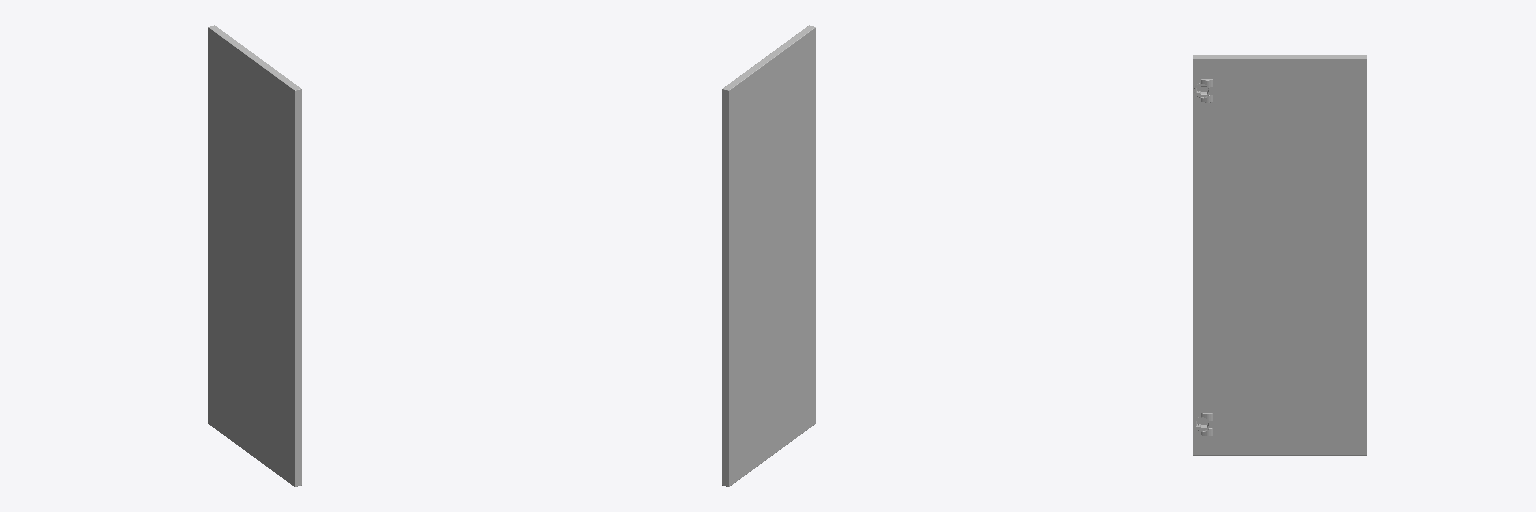
Rendered from SM_Kitchen_04_Door_011d01d01d0.obj.
The picture shows the model from 3 angles: view 1: azimuth 30°, elevation 25°; view 2: azimuth 150°, elevation 25°; view 3: azimuth 270°, elevation 25°; orthographic projection.
Parts seen in each view (by area): view 1: SM_Kitchen_04_Door_011d01d01d0_SM_Kitchen_04_Door_01; view 2: SM_Kitchen_04_Door_011d01d01d0_SM_Kitchen_04_Door_01; view 3: SM_Kitchen_04_Door_011d01d01d0_SM_Kitchen_04_Door_01.
Part boxes in pixels (bbox=[...]): SM_Kitchen_04_Door_011d01d01d0_SM_Kitchen_04_Door_01: bbox=[208, 25, 301, 486]; SM_Kitchen_04_Door_011d01d01d0_SM_Kitchen_04_Door_01: bbox=[722, 25, 815, 486]; SM_Kitchen_04_Door_011d01d01d0_SM_Kitchen_04_Door_01: bbox=[1193, 55, 1366, 455].
Size of the model in its own units: 0.0248 by 0.9969 by 0.396.